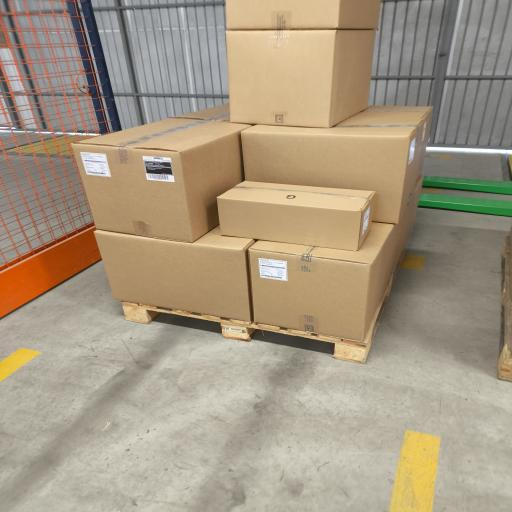pallet: (122, 267, 398, 363), (498, 237, 511, 381)
